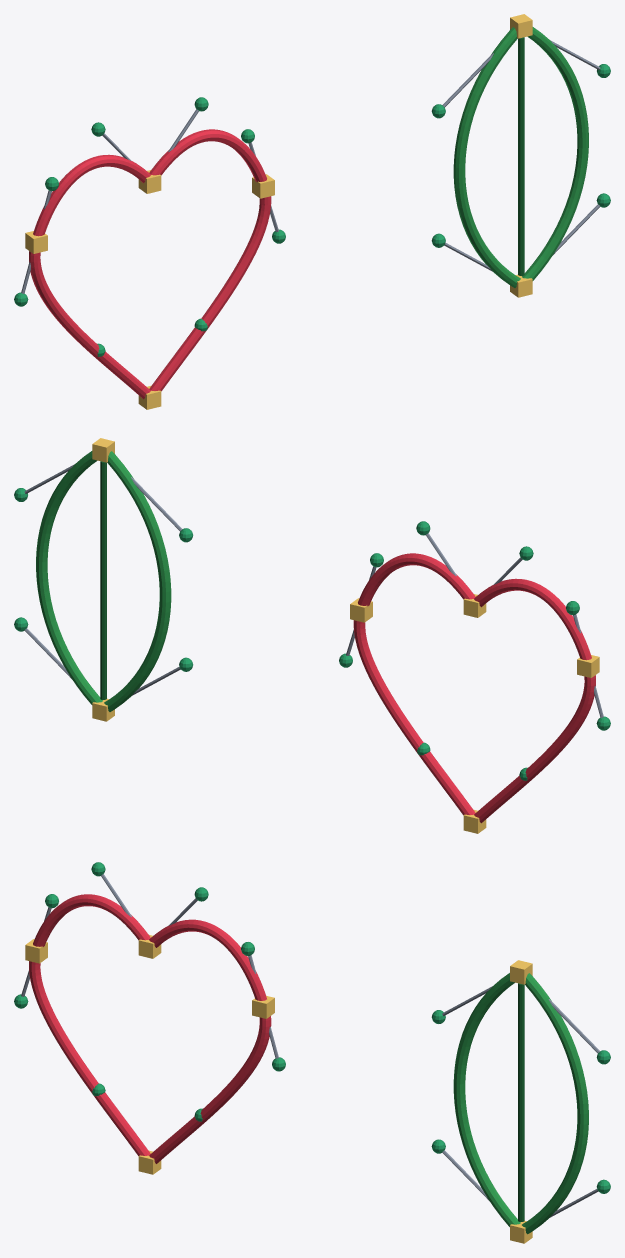
Rendered from ish07.glb.
The picture shows the model from 3 angles, top to bottom: view 1: azimuth 30°, elevation 25°; view 2: azimuth 150°, elevation 25°; view 3: azimuth 330°, elevation 25°; orthographic projection.
Parts seen in each view (by area): view 1: Yurak_splayn, Barg_splayn, Barg_tomir; view 2: Yurak_splayn, Barg_splayn, Barg_tomir; view 3: Yurak_splayn, Barg_splayn, Barg_tomir.
Part boxes in pixels (x1,y1,x2,y2): Yurak_splayn: (29, 129, 271, 399); Barg_splayn: (453, 27, 588, 287); Barg_tomir: (518, 37, 524, 275); Yurak_splayn: (353, 553, 595, 823); Barg_splayn: (36, 451, 171, 711); Barg_tomir: (100, 461, 106, 699); Yurak_splayn: (29, 894, 271, 1163); Barg_splayn: (453, 973, 588, 1234); Barg_tomir: (518, 983, 524, 1221).
Bounding box in the file's own units: 0.577 × 0.274 × 0.014.
